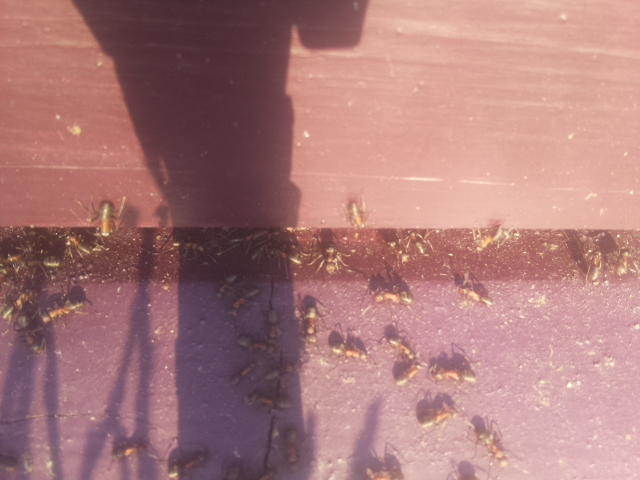ant: (462, 406, 518, 477), (8, 304, 51, 362), (104, 435, 155, 480), (321, 326, 372, 366), (158, 445, 215, 480), (311, 225, 346, 277), (467, 219, 516, 256), (89, 190, 121, 246), (446, 268, 488, 308), (33, 297, 86, 326), (413, 401, 462, 432), (299, 291, 323, 347), (369, 450, 410, 480), (243, 390, 296, 413), (281, 426, 304, 467), (345, 193, 368, 230), (584, 245, 606, 283), (386, 335, 416, 362), (369, 288, 419, 304), (451, 455, 481, 480), (396, 363, 422, 389), (218, 463, 241, 480)
